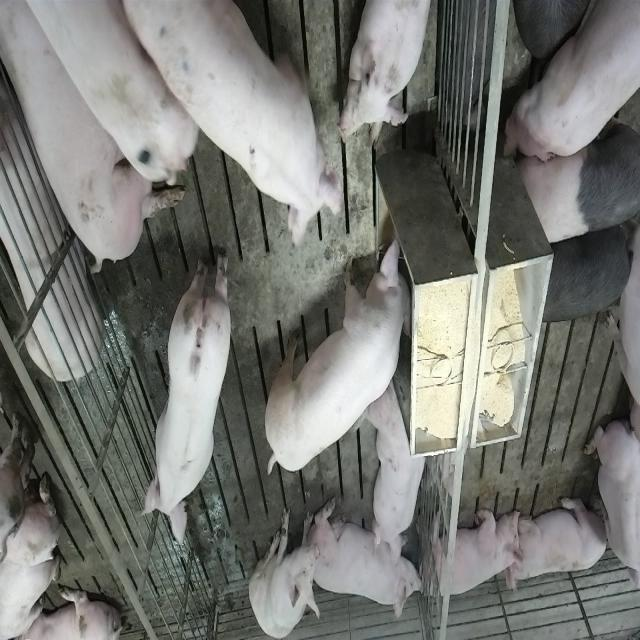Feeding: (270, 228, 420, 476)
Lateral_lying: (0, 65, 103, 381)
Sitting: (249, 503, 319, 638)
Standing: (90, 0, 355, 254), (3, 0, 199, 208), (140, 244, 234, 540), (502, 0, 638, 168), (514, 97, 638, 247), (536, 217, 637, 327)
Sternal_lying: (314, 502, 424, 628), (344, 0, 437, 146), (368, 382, 430, 562), (583, 414, 637, 604), (425, 502, 524, 604), (510, 491, 610, 589)
